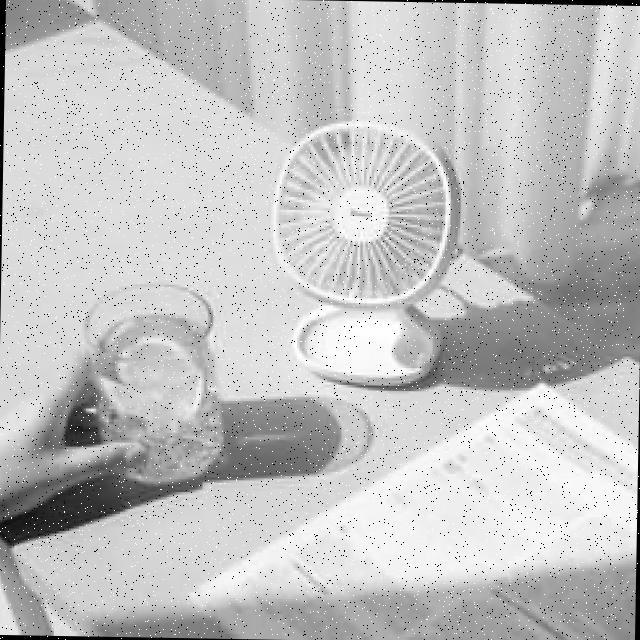fan: (262, 109, 472, 383)
